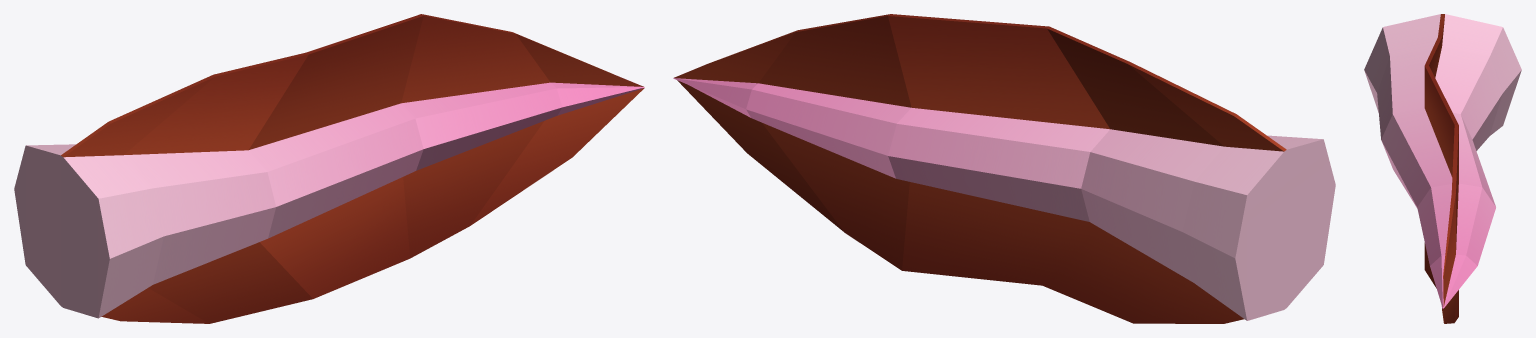
The model's file is Axolotl_Tail.fbx.
3 views of the same model, side by side, from view 1: azimuth 30°, elevation 25°; view 2: azimuth 150°, elevation 25°; view 3: azimuth 270°, elevation 25° (orthographic). The views are drawn at different scales.
Visible parts, largest first — view 1: Axolotl_Tail; view 2: Axolotl_Tail; view 3: Axolotl_Tail.
Part boxes in pixels (bbox=[...]): Axolotl_Tail: bbox=[14, 14, 644, 323]; Axolotl_Tail: bbox=[673, 14, 1335, 323]; Axolotl_Tail: bbox=[1364, 14, 1521, 323].
Size of the model in its own units: 92.65 by 38.49 by 26.37.
